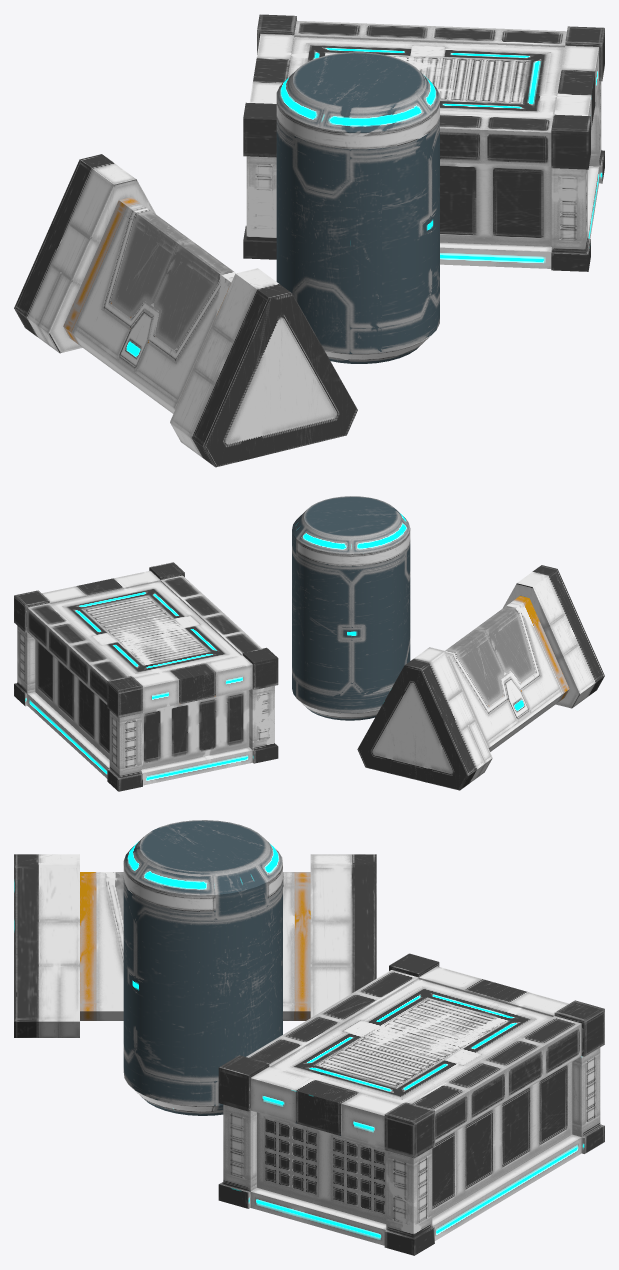
The model's file is scibox.glb.
3 renders of one model, top to bottom at view 1: azimuth 30°, elevation 25°; view 2: azimuth 150°, elevation 25°; view 3: azimuth 270°, elevation 25°, orthographic. The views are drawn at different scales.
Parts seen in each view (by area): view 1: scifi boxs; view 2: scifi boxs; view 3: scifi boxs.
Boxes of the visible parts, box(x1,y1,x2,y2) form: scifi boxs: box(14, 14, 604, 467); scifi boxs: box(14, 496, 604, 791); scifi boxs: box(14, 820, 604, 1255).
Size of the model in its own units: 2.5 by 1 by 2.2.
Materials: 1 (1 with a texture image).
